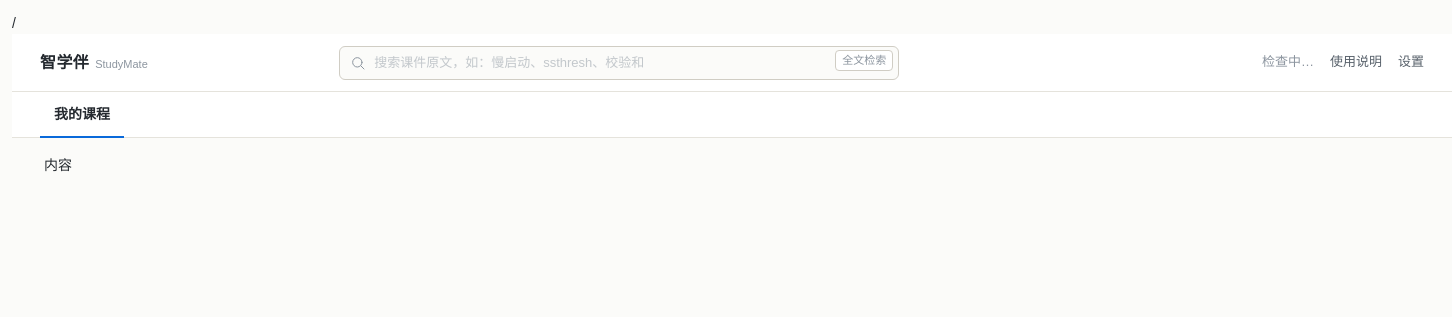
Test case: 全局检索：无需课程上下文，结果就地展开并逐条标注所属课程
This screenshot has width=1452, height=317.
In the field labelled "搜索课件原文": (619, 63) [339,46,899,80], type "慢启动"
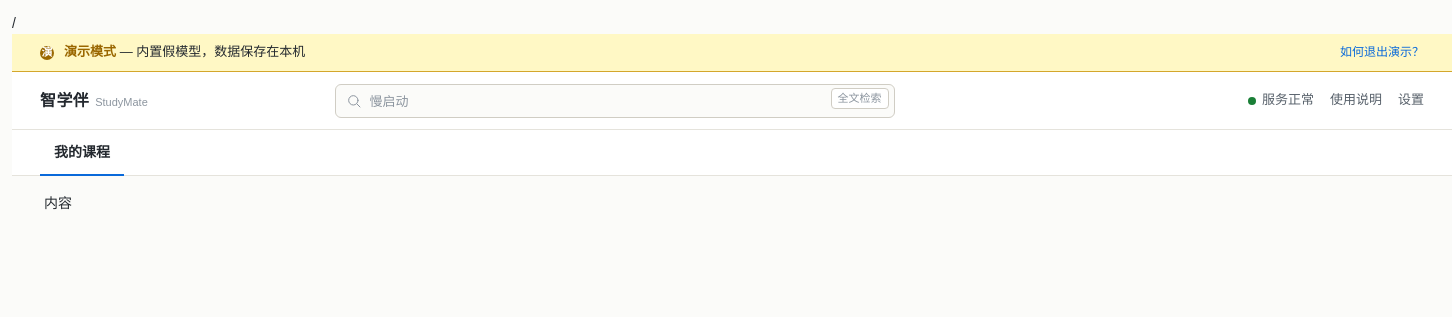
Submit the form named "搜索课件原文", box [334,84,894,118]
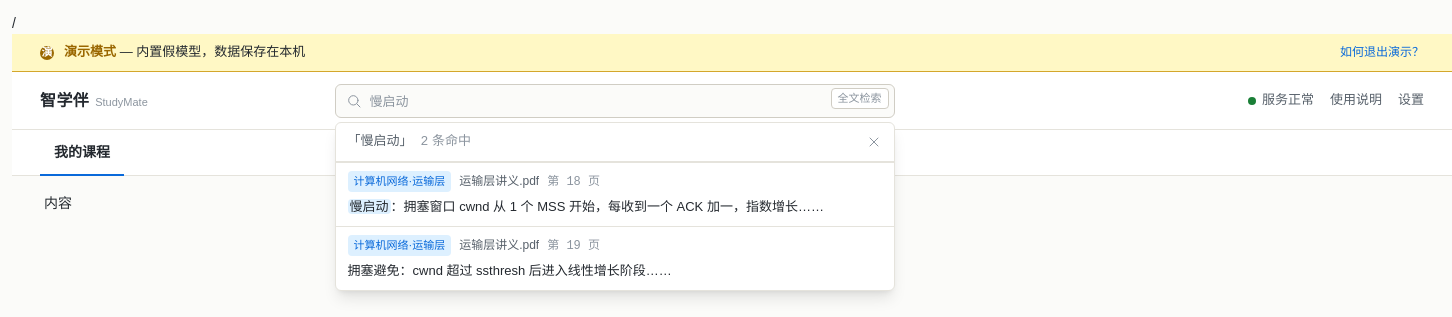
Expected: the text with test id "loc" reads "/", [12,15,16,31]
Now the text "计算机网络·运输层" is shown 2 times, box [348,171,451,192]; [348,235,451,256]
